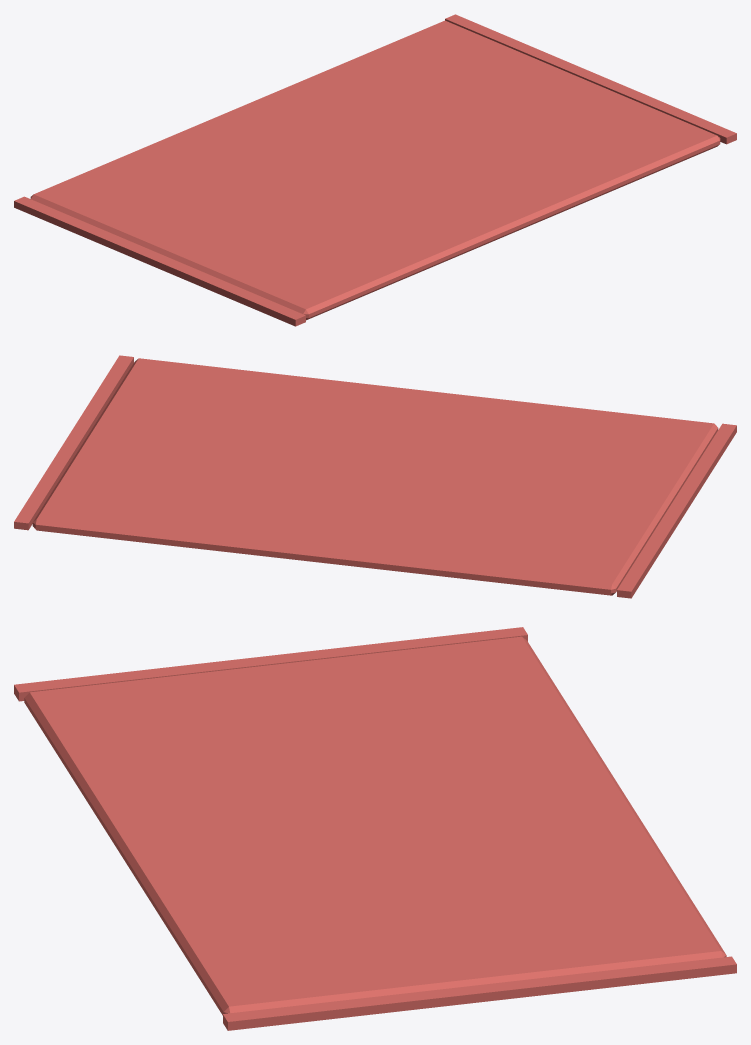
Rendered from town_rug.glb.
3 renders of one model, top to bottom at view 1: azimuth 30°, elevation 25°; view 2: azimuth 150°, elevation 25°; view 3: azimuth 270°, elevation 25°, orthographic. The views are drawn at different scales.
Parts seen in each view (by area): view 1: world; view 2: world; view 3: world.
Boxes of the visible parts, x1,y1,x2,y2 form: world: (14, 14, 736, 326); world: (14, 355, 736, 598); world: (14, 627, 736, 1030).
Size of the model in its own units: 2 by 0.0348 by 1.55.
